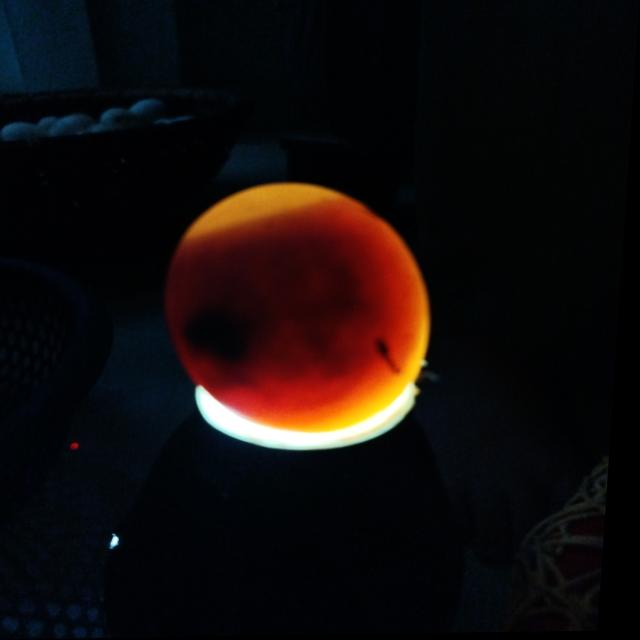Area Infectada: (172, 227, 410, 395)
